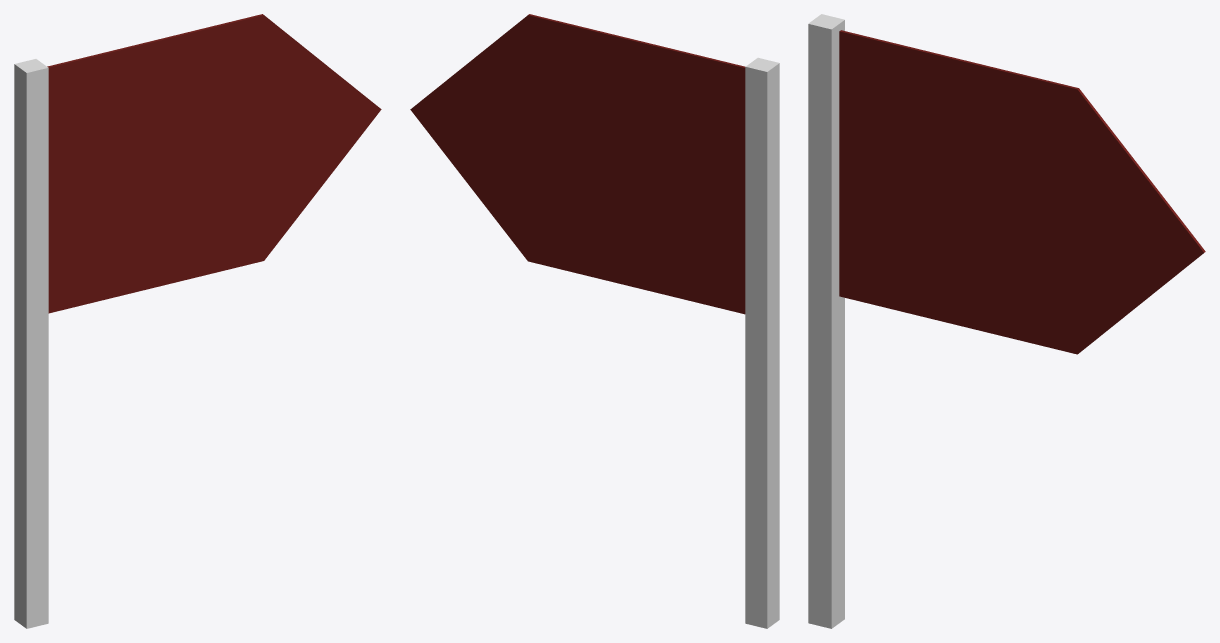
The model's file is flag.fbx.
3 views of the same model, side by side, from view 1: azimuth 30°, elevation 25°; view 2: azimuth 150°, elevation 25°; view 3: azimuth 330°, elevation 25° (orthographic). The views are drawn at different scales.
Visible parts, largest first — view 1: Plane, Cube; view 2: Plane, Cube; view 3: Plane, Cube.
Boxes of the visible parts, <box> form: Plane: <box>47,14,381,313</box>; Cube: <box>14,59,48,628</box>; Plane: <box>410,14,745,314</box>; Cube: <box>745,57,779,628</box>; Plane: <box>839,30,1205,354</box>; Cube: <box>808,14,844,628</box>.
Bounding box in the file's own units: 136 × 200 × 8.08.
